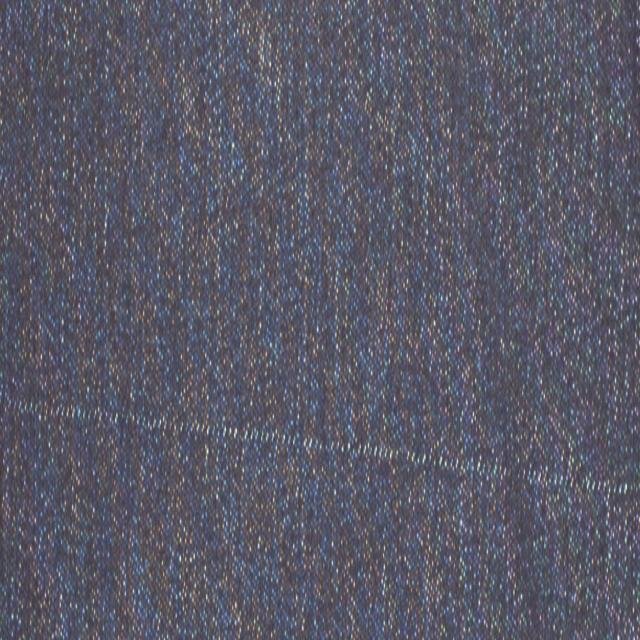Line: (2, 390, 640, 503)
